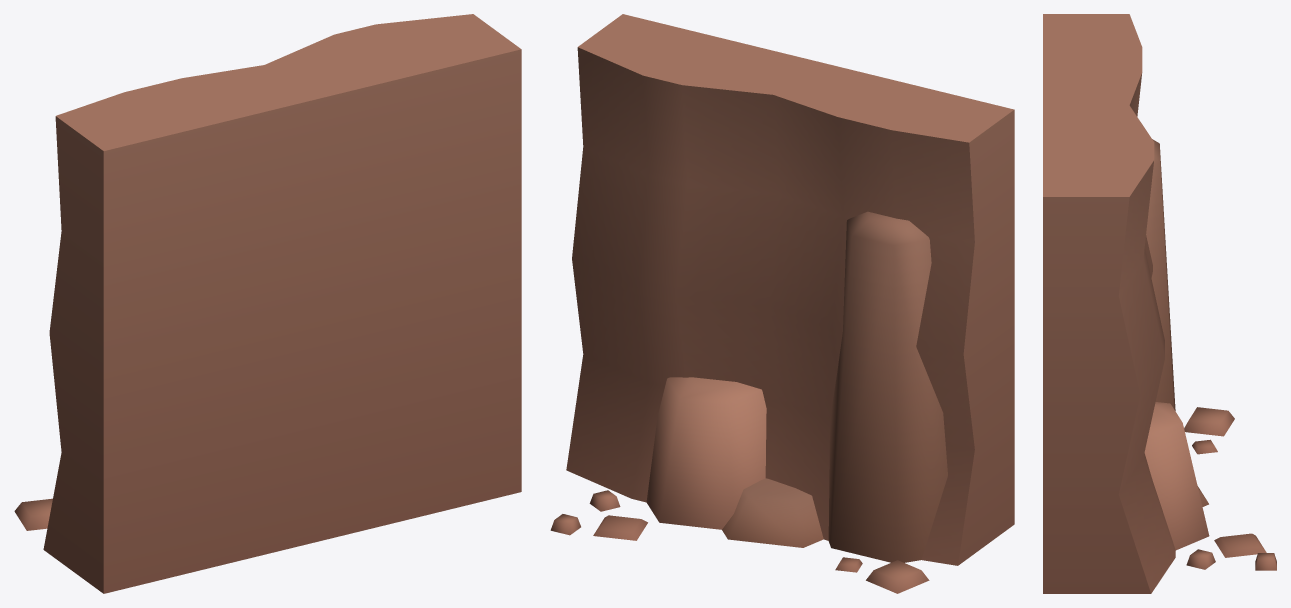
Rendered from template-wall.glb.
3 views of the same model, side by side, from view 1: azimuth 30°, elevation 25°; view 2: azimuth 150°, elevation 25°; view 3: azimuth 270°, elevation 25° (orthographic). The views are drawn at different scales.
Parts seen in each view (by area): view 1: template-wall; view 2: template-wall; view 3: template-wall.
Part boxes in pixels (bbox=[...]): template-wall: bbox=[14, 14, 521, 593]; template-wall: bbox=[550, 14, 1014, 593]; template-wall: bbox=[1043, 14, 1276, 593].
Size of the model in its own units: 4 by 4.05 by 2.16.
Materials: 1 (1 with a texture image).
